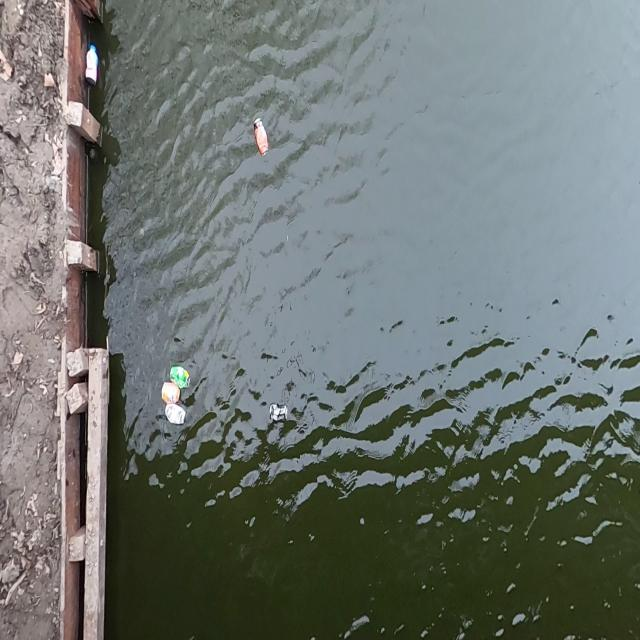Bouteille plastique: (80, 41, 102, 92)
Non plastique: (247, 114, 272, 162), (264, 395, 294, 429), (161, 405, 188, 430), (169, 364, 193, 389), (158, 382, 181, 405)
